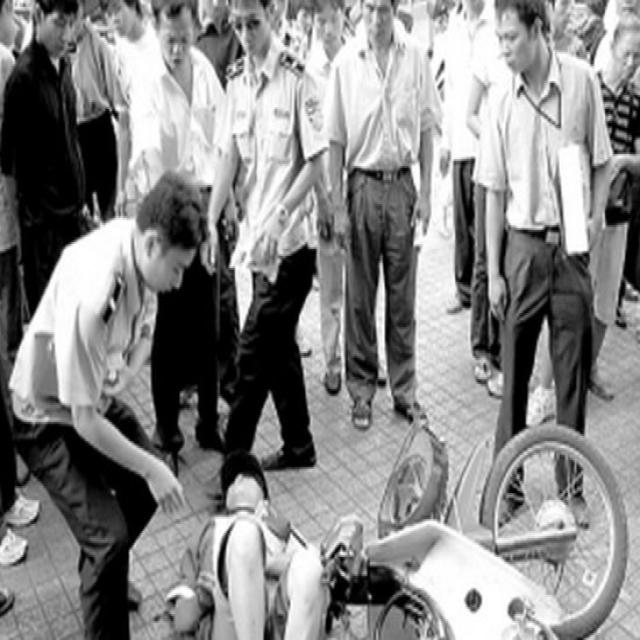10-: (0, 0, 639, 638)
down: (195, 448, 362, 638)
